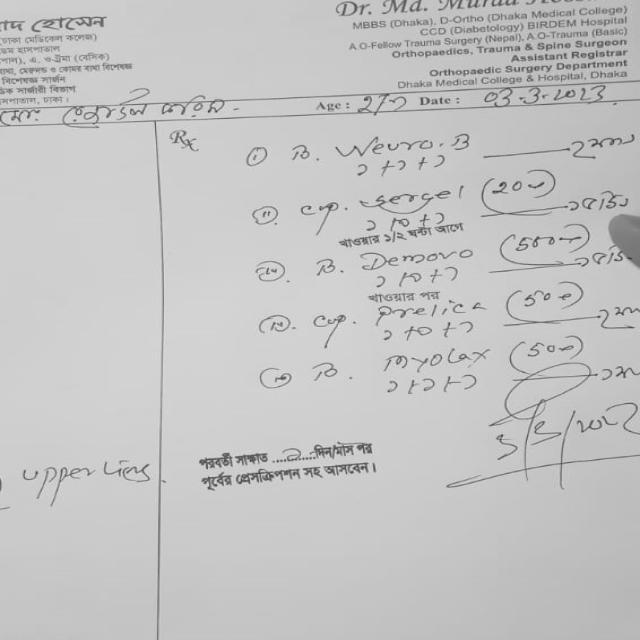medicine: (369, 300, 495, 324), (376, 348, 498, 372), (366, 184, 468, 212), (358, 247, 474, 271)
